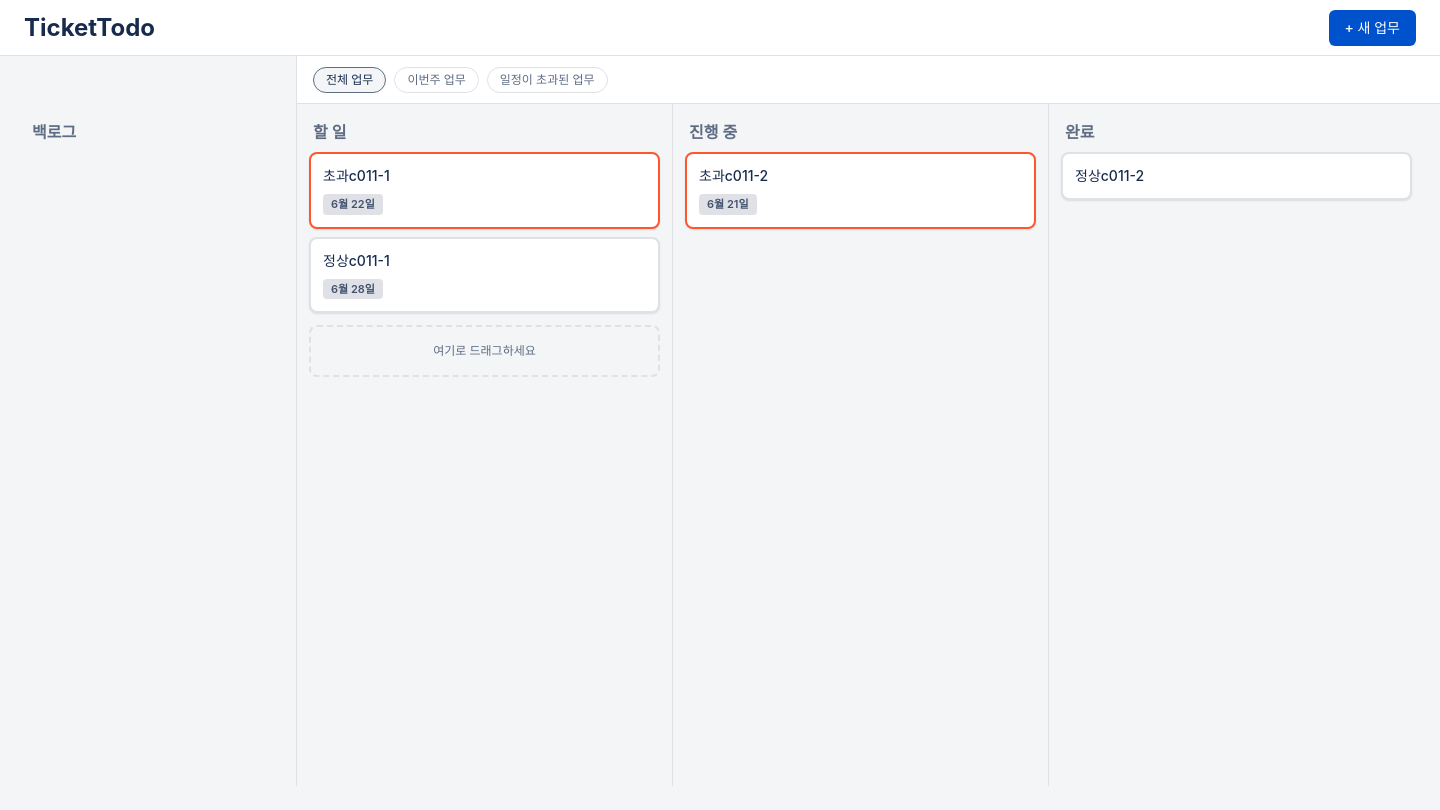
Scenario: 시나리오 C — 기한 경고 색상 › TC-INT-011: "일정이 초과된 업무" 필터 → 해당 카드만 표시
Expected: the text "초과c011-1" is shown, [323,167,390,184]
Click the button "일정이 초과된 업무" at point(547, 80), box [487,66,608,92]
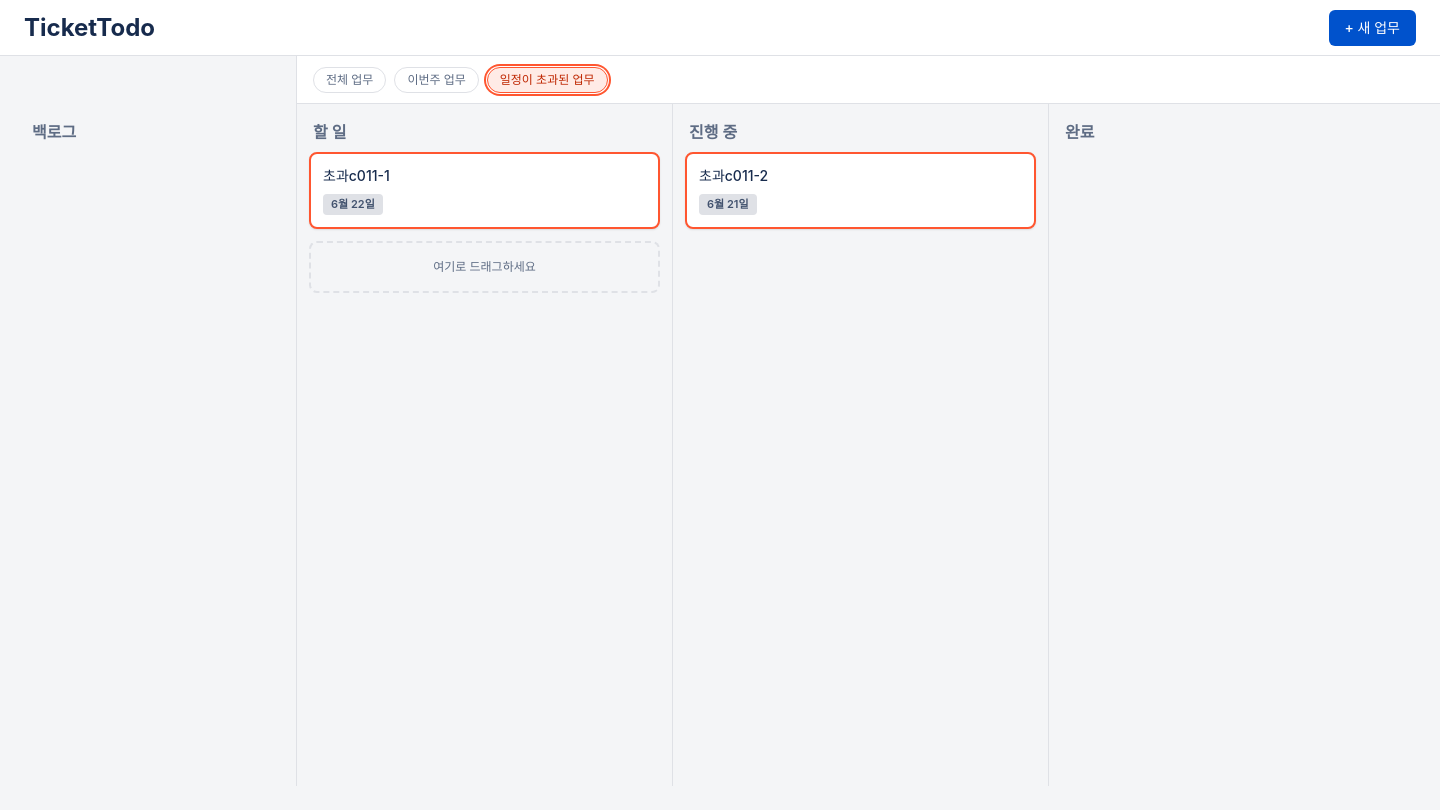
Expected: the text "초과c011-1" is shown, [323,167,390,184]
Expected: the list item "정상c011-1" is gone
Expected: the list item "정상c011-2" is gone
